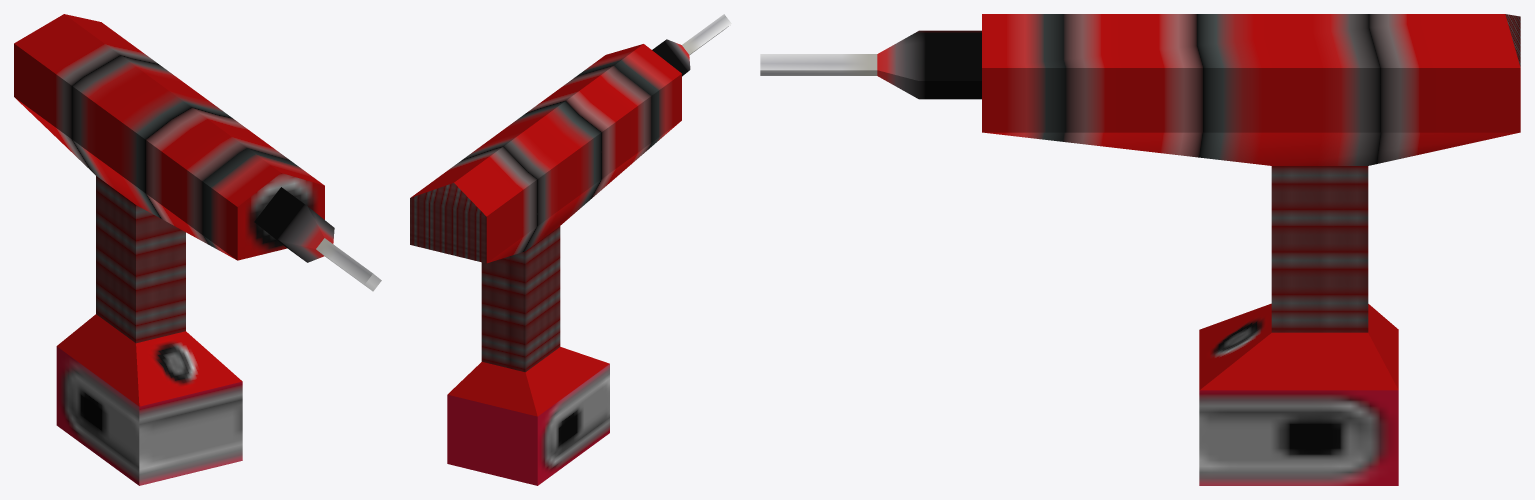
File: Drill_Red.fbx
The picture shows the model from 3 angles, left to right: view 1: azimuth 30°, elevation 25°; view 2: azimuth 150°, elevation 25°; view 3: azimuth 270°, elevation 25°; orthographic projection. The views are drawn at different scales.
Parts seen in each view (by area): view 1: Red_Drill_02; view 2: Red_Drill_02; view 3: Red_Drill_02.
Part boxes in pixels (left/top/right/bottom): Red_Drill_02: left=14, top=14, right=381, bottom=485; Red_Drill_02: left=410, top=14, right=731, bottom=485; Red_Drill_02: left=760, top=14, right=1520, bottom=485.
Size of the model in its own units: 0.092 by 0.312 by 0.4867.
